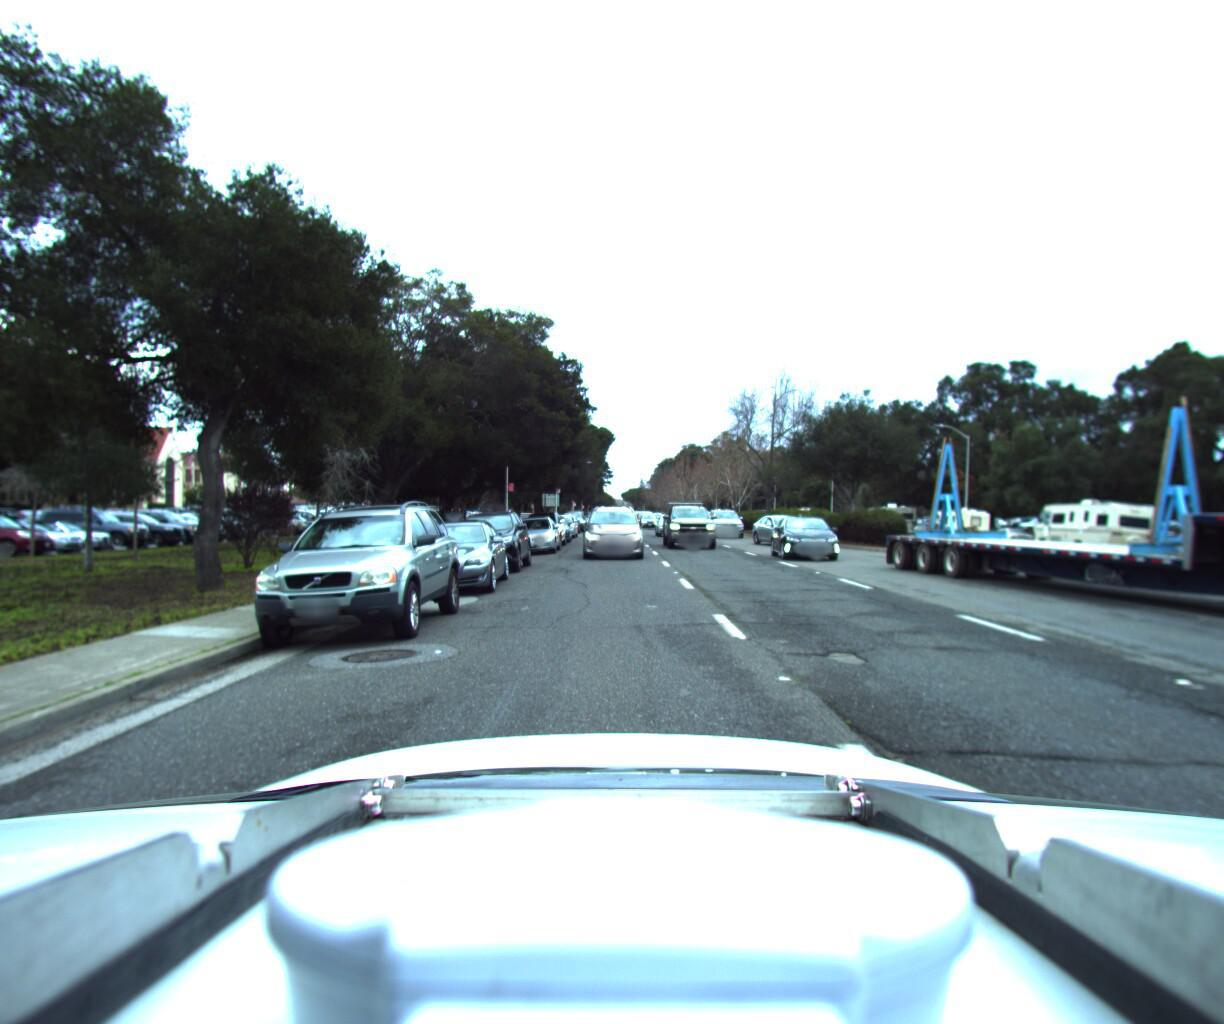car: (237, 484, 464, 655), (385, 508, 509, 596), (439, 497, 534, 570), (579, 493, 642, 553), (769, 505, 846, 554), (658, 491, 719, 543), (504, 506, 562, 551), (745, 509, 811, 543), (521, 502, 565, 543), (978, 519, 1034, 543), (705, 501, 745, 530), (543, 506, 577, 531), (648, 505, 683, 529)
other_vehicle: (1028, 488, 1167, 553), (927, 498, 990, 536), (862, 492, 920, 525)
